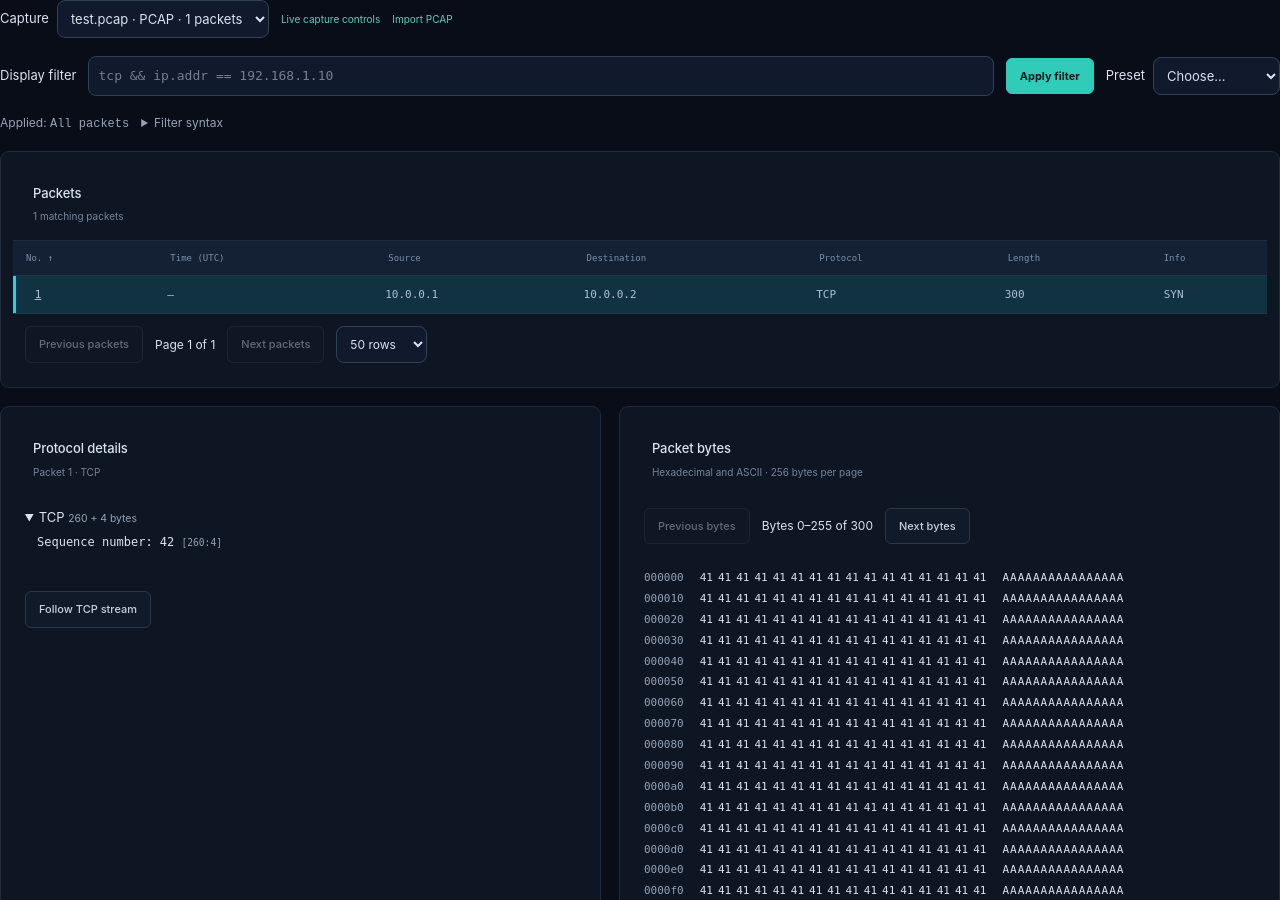
Test: reconciles a packet excluded by an explicitly changed filter and clears detail for an empty filter result
Check: the button "Sequence number: 42 [260:4]" is shown, box [25,527,576,557]
Step 1. Type "tcp" into the field labelled "Display filter" → (541, 76), box [88,56,994,96]
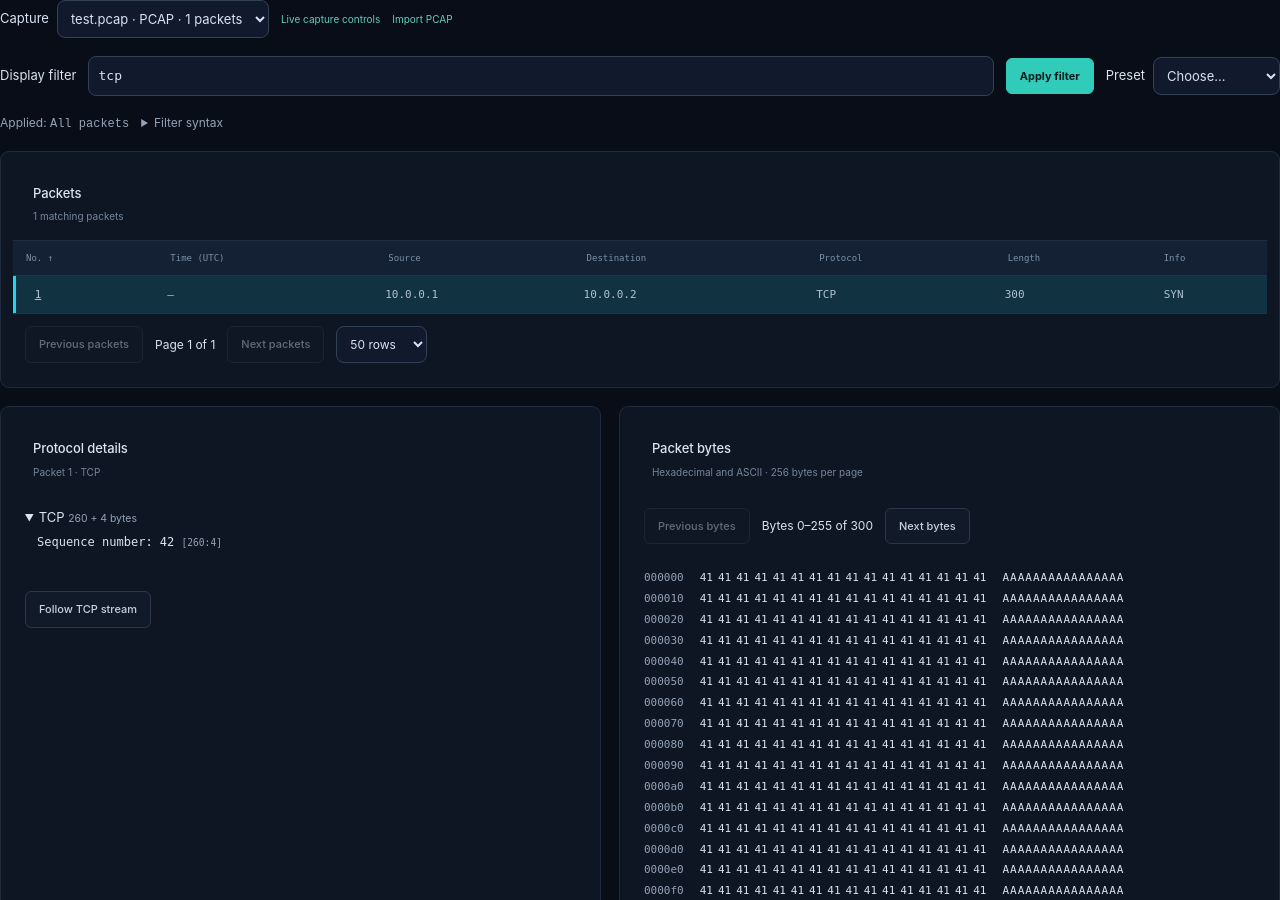
Step 2. Click the button "Apply filter" → click(1050, 76), box [1006,58,1094,94]
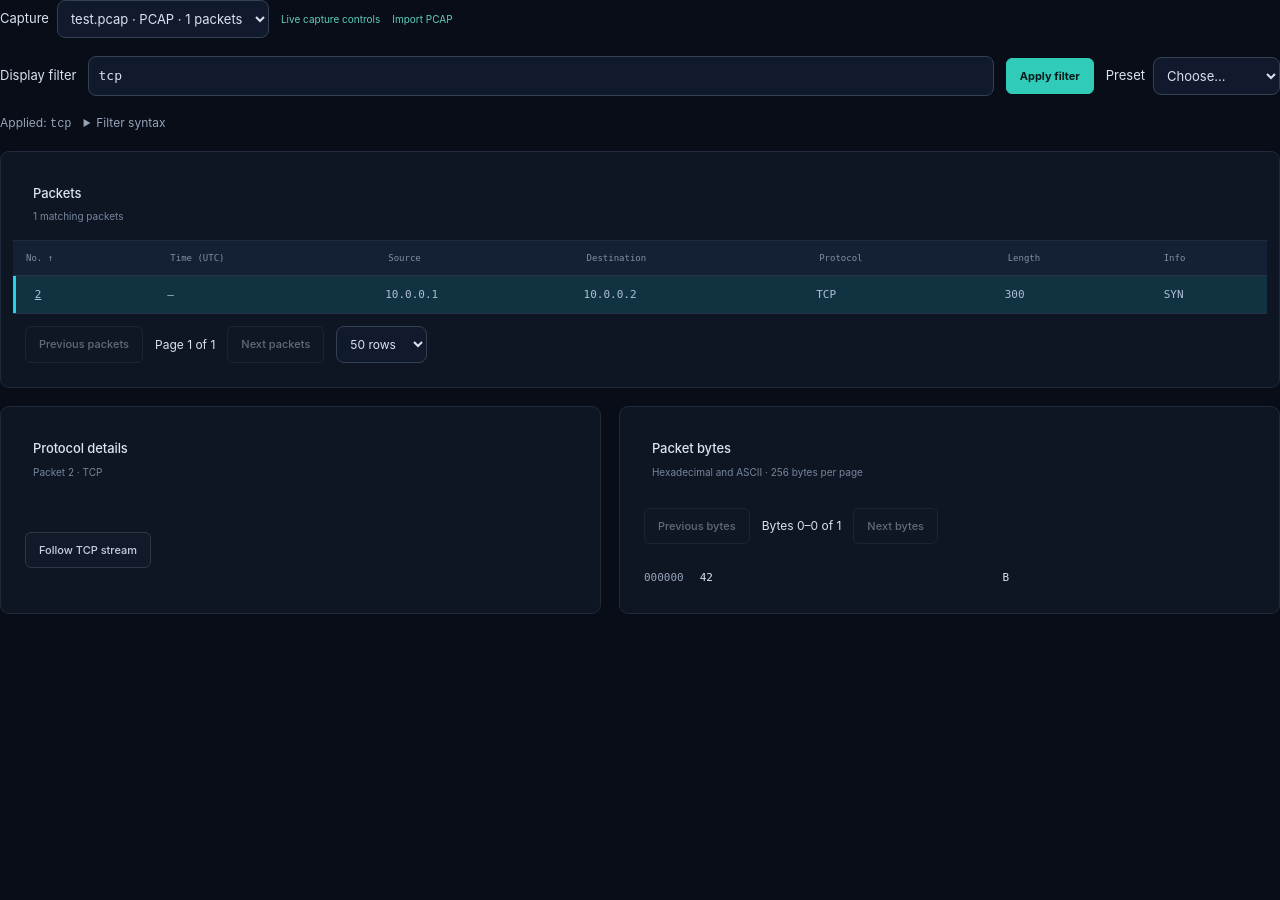
Check: the text "Packet 2 · TCP" is shown, box [33,466,102,478]
Step 3. Replace the text in the field labelled "Display filter" with "udp" → (541, 76), box [88,56,994,96]
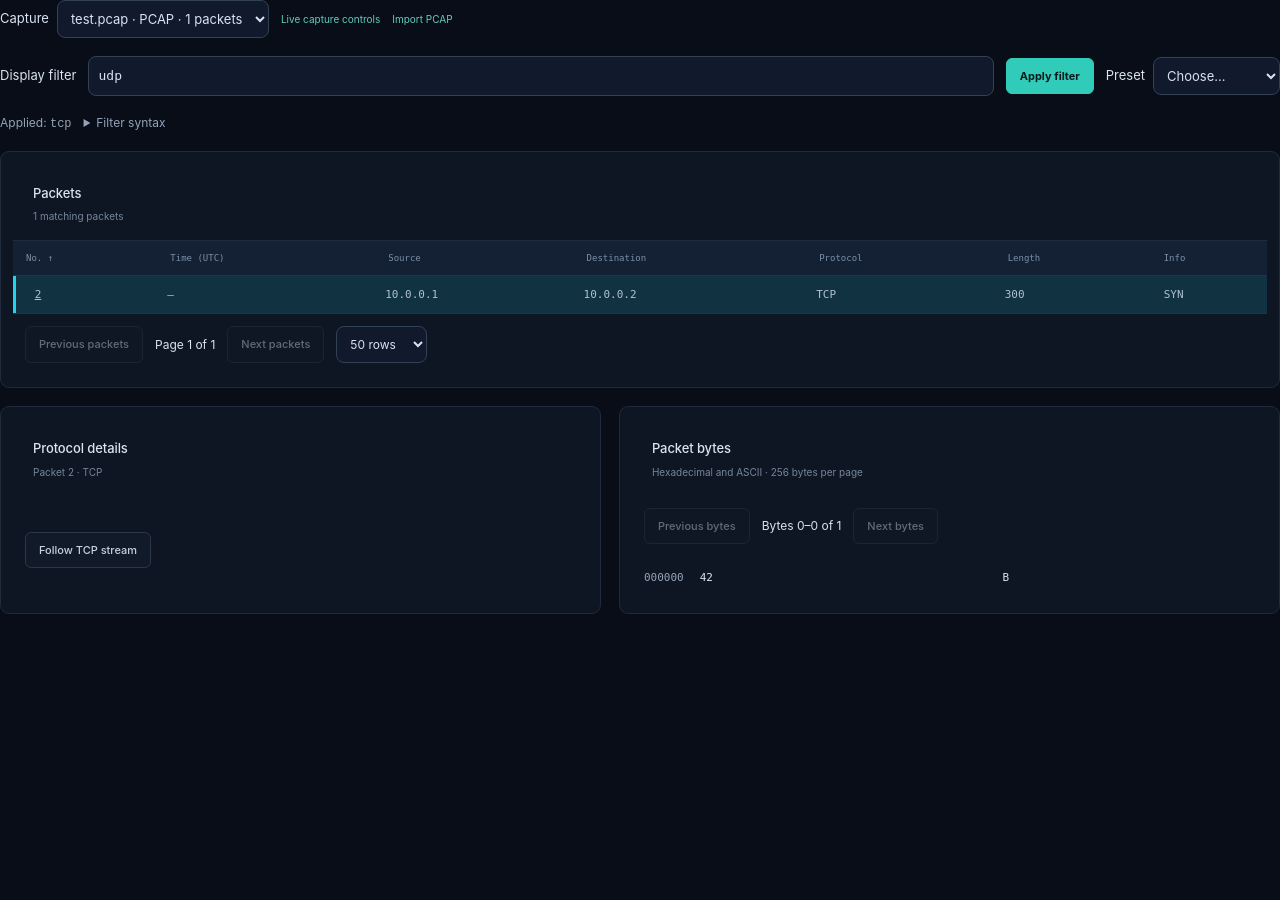
Step 4. Click the button "Apply filter" → click(1050, 76), box [1006,58,1094,94]
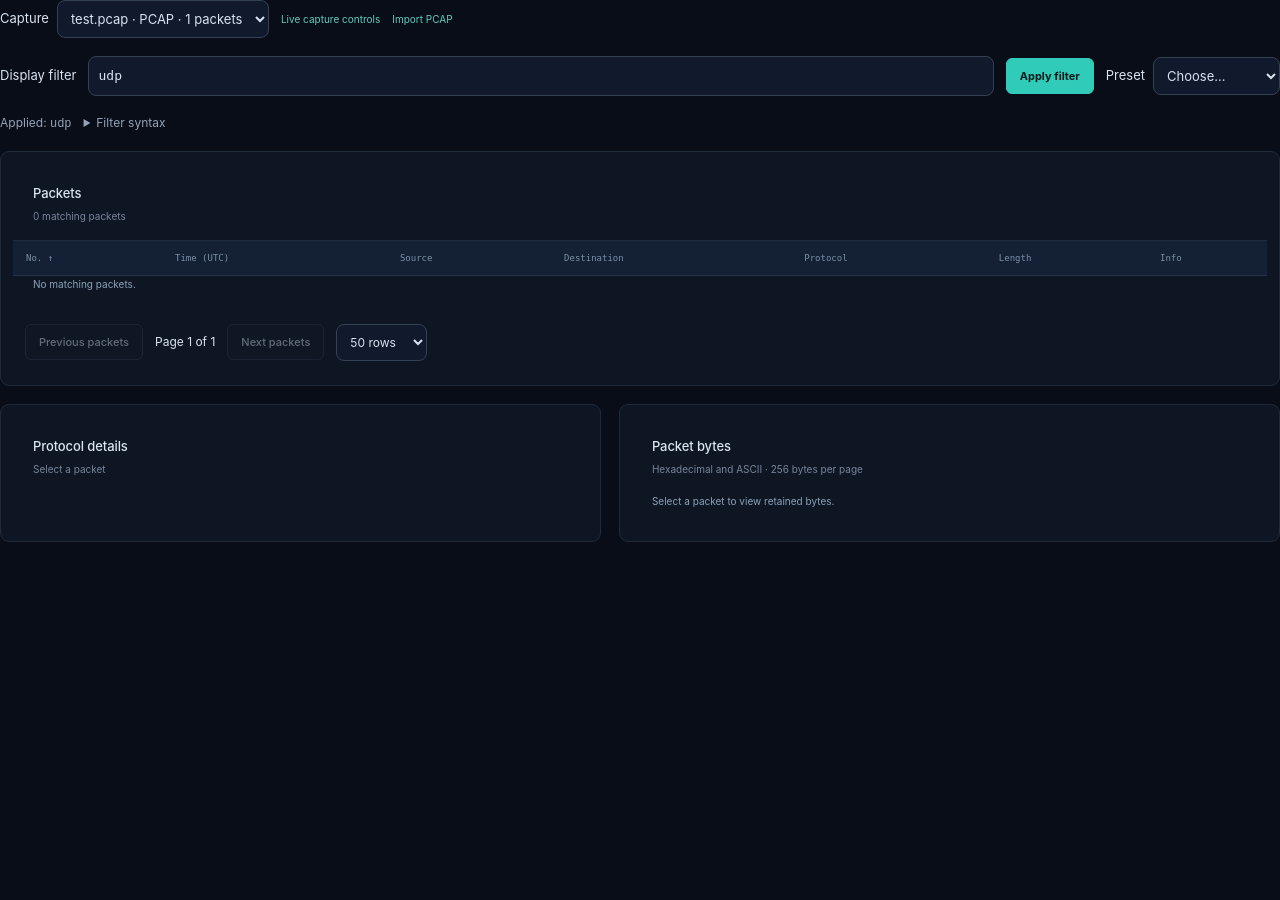
Check: the text "No matching packets." is shown, box [33,278,136,290]
Check: the text "Packet 2 · TCP" is gone
Check: the text "Select a packet to view retained bytes." is shown, box [652,495,834,507]
